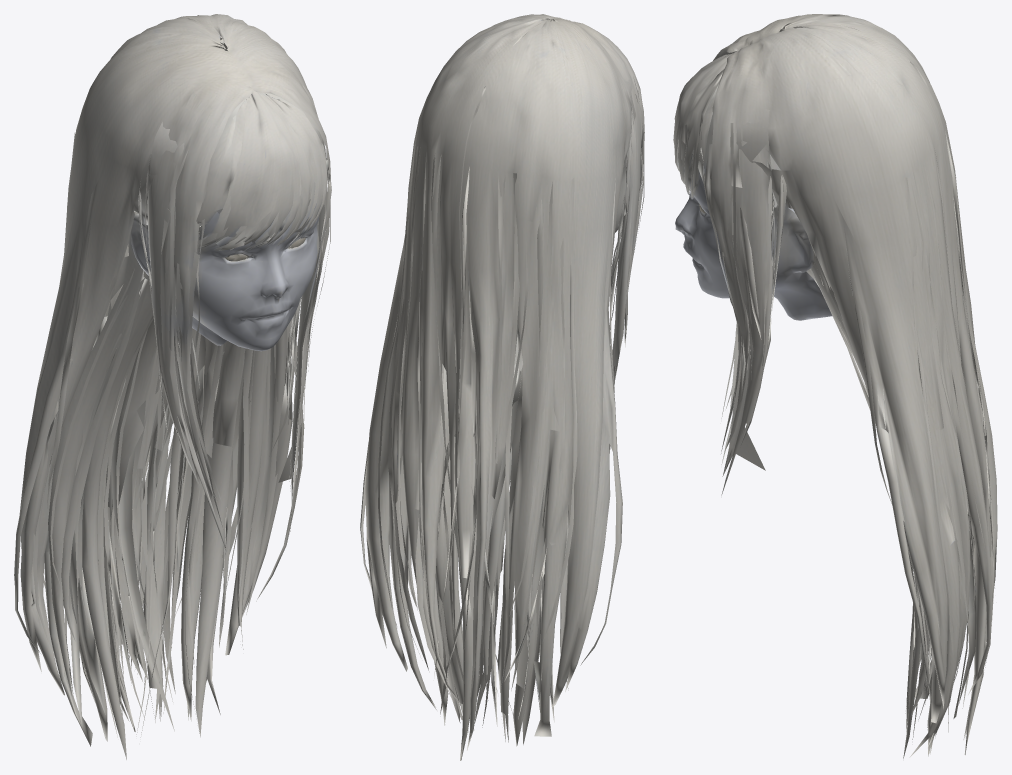
Rendered from hair-6.glb.
The picture shows the model from 3 angles, left to right: view 1: azimuth 30°, elevation 25°; view 2: azimuth 150°, elevation 25°; view 3: azimuth 270°, elevation 25°; orthographic projection. The views are drawn at different scales.
Size of the model in its own units: 0.373 by 0.9512 by 0.3833.
1 material, 1 textured.
